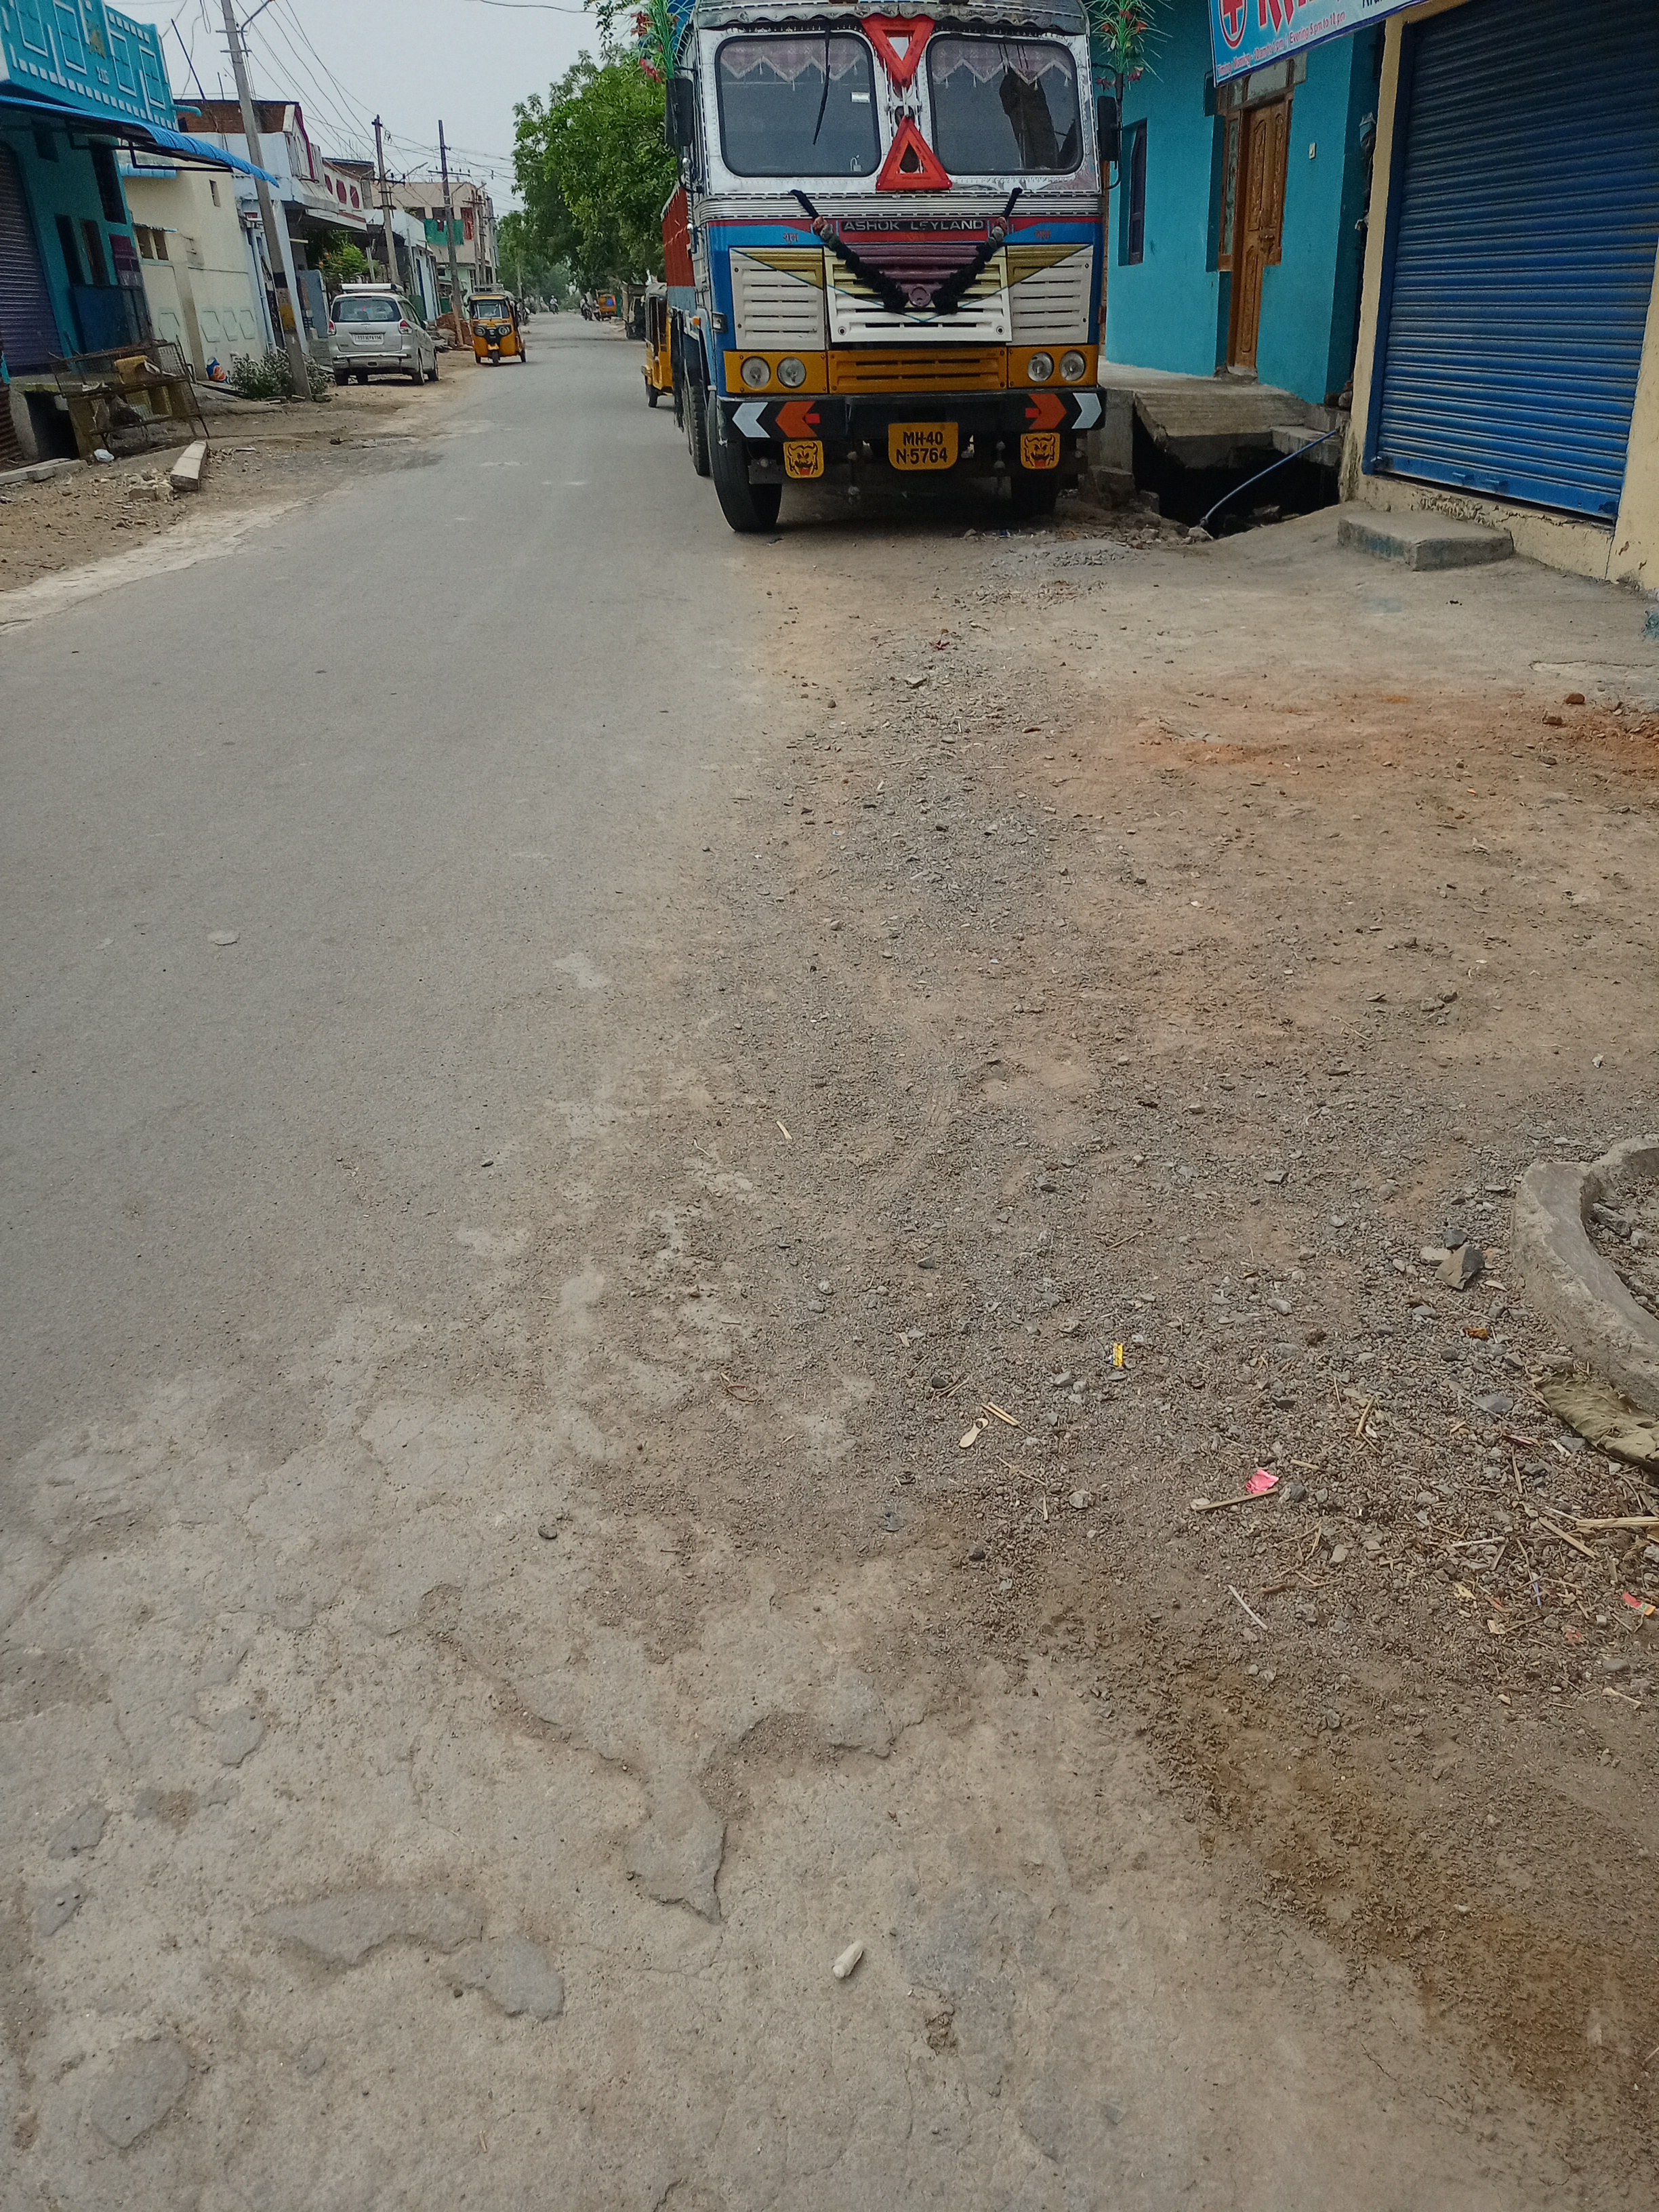truck: (659, 0, 1127, 535)
